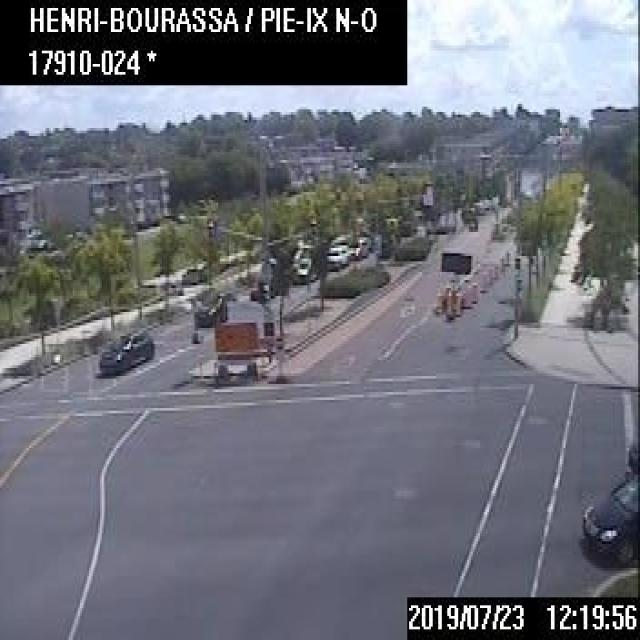construction: (211, 293, 273, 384), (434, 250, 471, 314), (463, 284, 470, 307), (454, 289, 460, 312), (470, 280, 476, 302), (479, 272, 486, 290), (445, 290, 450, 312), (436, 290, 440, 312)
vehicle: (578, 446, 638, 566), (98, 328, 155, 376), (194, 288, 226, 328), (250, 271, 274, 296), (290, 256, 314, 280), (325, 244, 347, 267), (347, 235, 367, 258)
